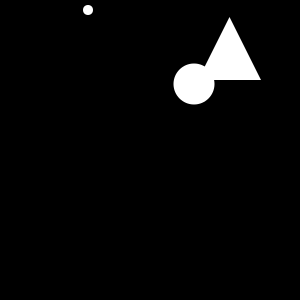rectangle: (173, 64, 214, 105), (83, 5, 93, 15)
triangle: (198, 17, 261, 80)
